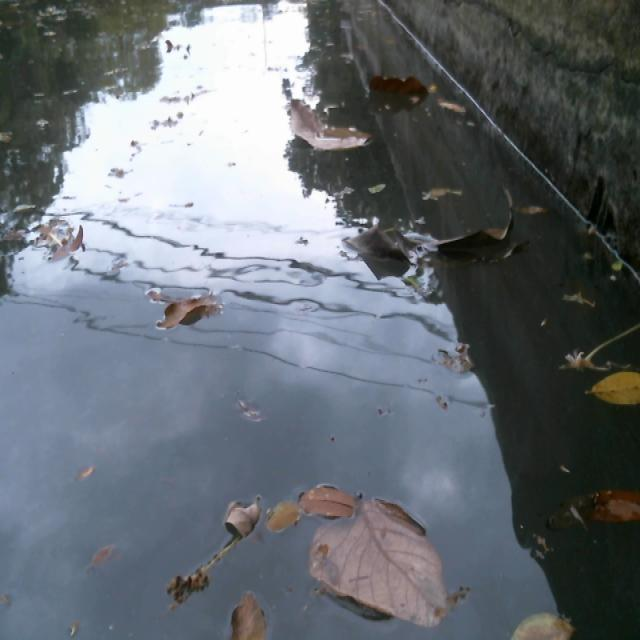Big-leaf: (314, 501, 468, 636), (281, 95, 379, 172), (364, 64, 440, 109)
Small-leaf: (545, 478, 640, 547), (154, 274, 235, 350), (159, 532, 228, 609), (426, 333, 485, 394), (554, 329, 640, 369), (20, 232, 95, 272), (225, 575, 271, 640), (514, 600, 588, 640), (295, 483, 365, 520), (18, 208, 73, 241), (591, 369, 640, 406), (95, 535, 132, 584), (236, 384, 272, 433), (218, 495, 261, 536), (564, 281, 610, 318), (350, 168, 392, 207), (423, 175, 468, 205), (165, 28, 201, 62), (272, 498, 301, 539), (149, 113, 183, 145), (437, 91, 466, 125), (524, 194, 547, 227), (79, 462, 105, 488)
